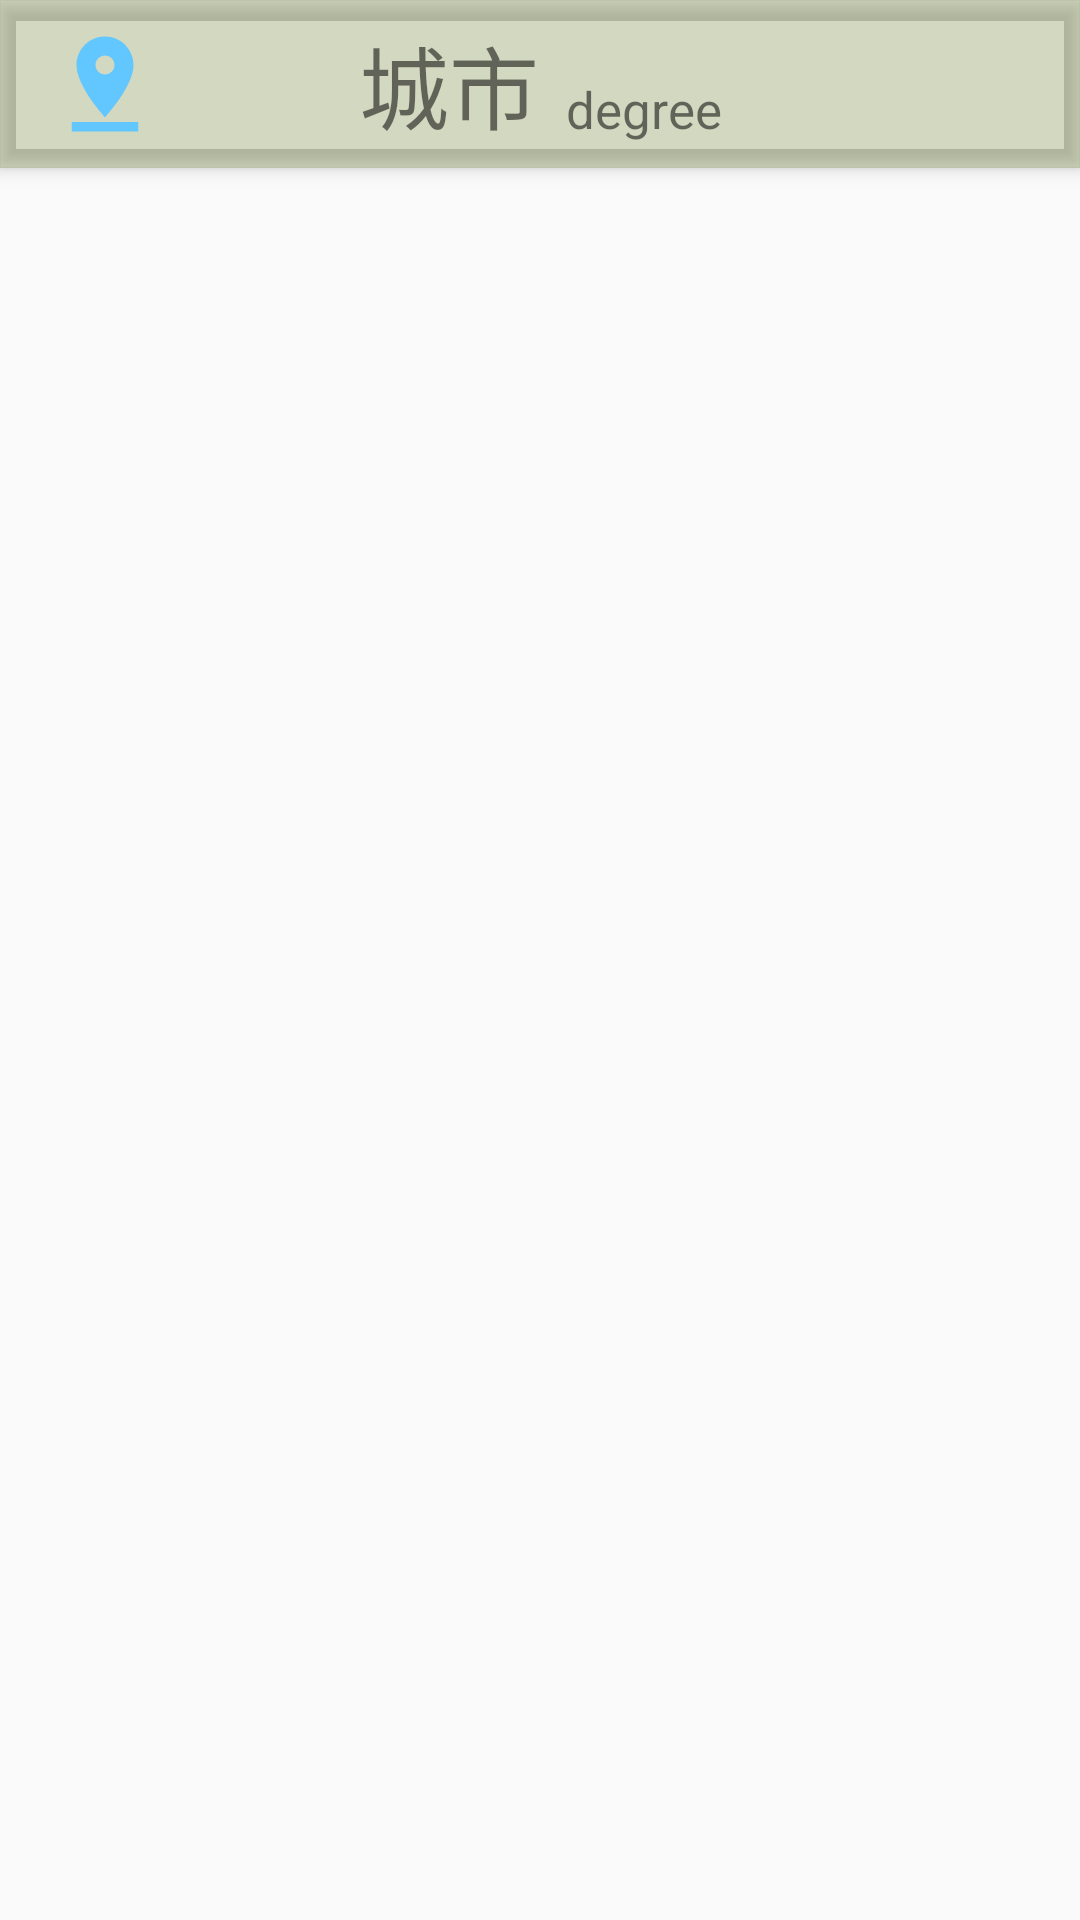

Where to tap for icons on this 1080 × 1920 app screen, as [x,y]:
pin drop: [105,84]
